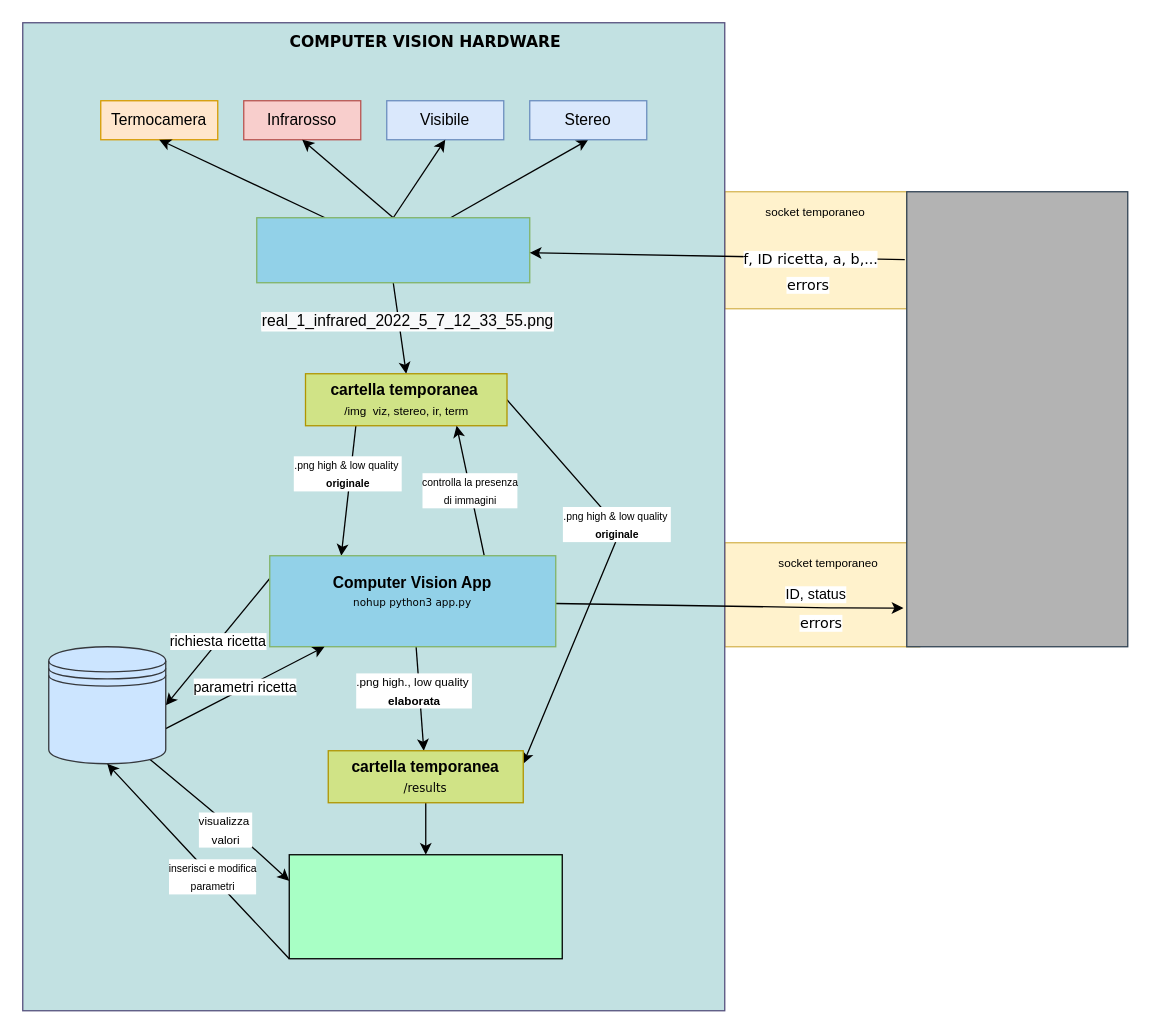
The diagram is 1151 pixels wide and 1034 high, and some of its shapes have lost their labels. Each missing label, with the box of its shape:
Fotografo nohup python3 fotografo.py: (255, 216, 530, 283)
FRONTEND: (288, 853, 562, 959)
PLC: (905, 190, 1128, 647)
ricette SQLite: (47, 645, 166, 764)
